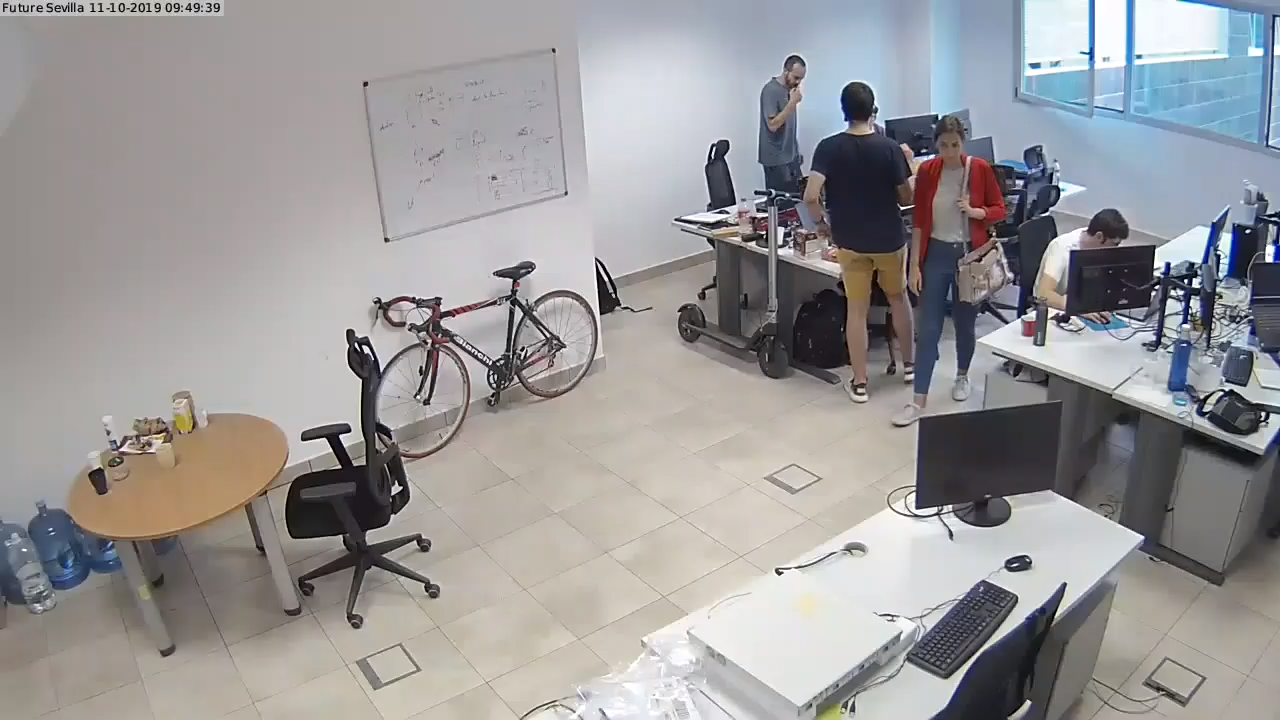head: (927, 109, 972, 172), (1090, 197, 1135, 259), (839, 78, 883, 135), (775, 49, 810, 97)
